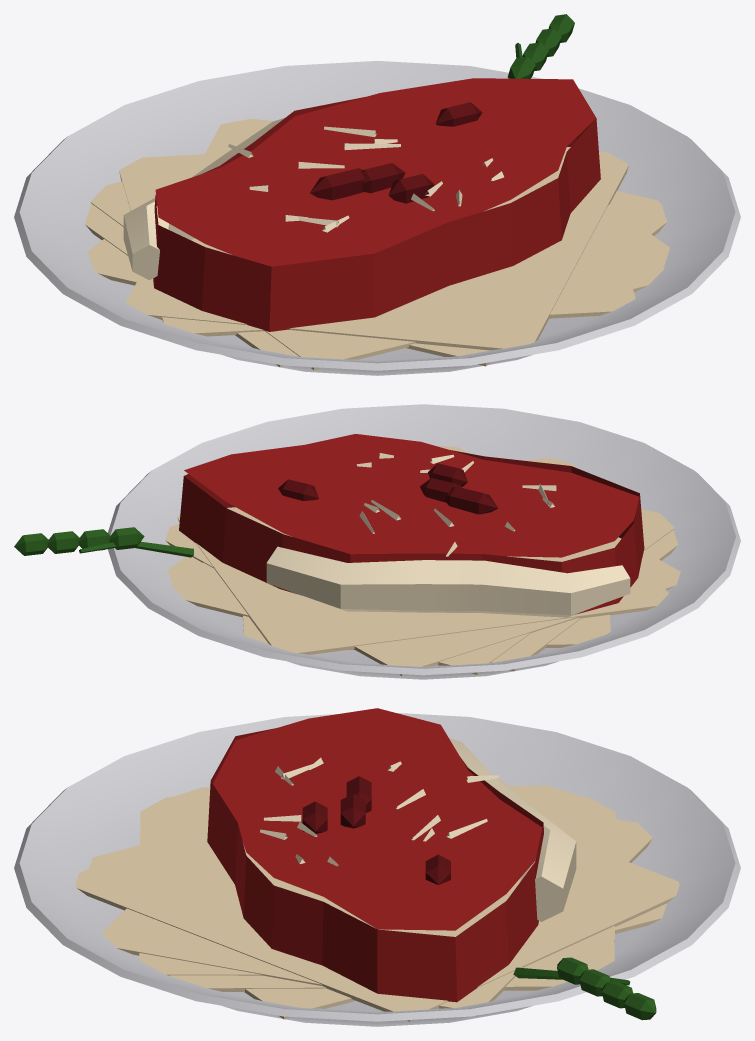
The model's file is meat_steak.glb.
3 renders of one model, top to bottom at view 1: azimuth 30°, elevation 25°; view 2: azimuth 150°, elevation 25°; view 3: azimuth 270°, elevation 25°, orthographic. The views are drawn at different scales.
Parts seen in each view (by area): view 1: teil2, teil0, teil1, teil5, teil3, teil4, teil6; view 2: teil2, teil0, teil1, teil3, teil6, teil5, teil4; view 3: teil2, teil0, teil1, teil3, teil6, teil5, teil4.
Boxes of the visible parts, box(x1,y1,x2,y2) form: teil2: box(153, 78, 600, 331); teil0: box(14, 61, 740, 375); teil1: box(85, 119, 669, 369); teil5: box(310, 102, 482, 203); teil3: box(123, 118, 284, 280); teil4: box(228, 126, 503, 232); teil6: box(507, 14, 574, 78); teil2: box(179, 434, 644, 617); teil0: box(108, 404, 740, 679); teil1: box(165, 446, 680, 675); teil3: box(266, 546, 630, 617); teil6: box(14, 527, 193, 557); teil5: box(278, 463, 497, 514); teil4: box(356, 453, 556, 556); teil2: box(207, 708, 543, 1002); teil0: box(14, 713, 740, 1026); teil1: box(75, 778, 679, 1021); teil3: box(449, 738, 576, 921); teil6: box(513, 957, 656, 1020); teil5: box(302, 776, 450, 884); teil4: box(260, 757, 498, 866).
Bounding box in the file's own units: 0.2658 × 0.0407 × 0.26.
